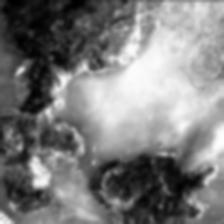Potentially Malignant Skin Tumors: (3, 0, 152, 106), (103, 146, 221, 224), (0, 113, 86, 212)
